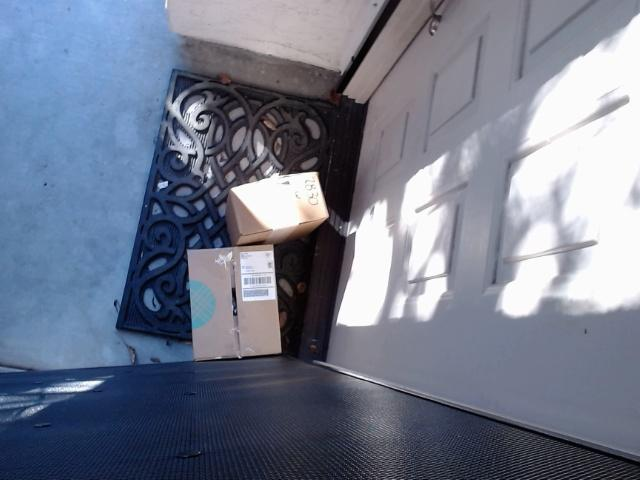box: (187, 243, 281, 361), (226, 172, 329, 246)
